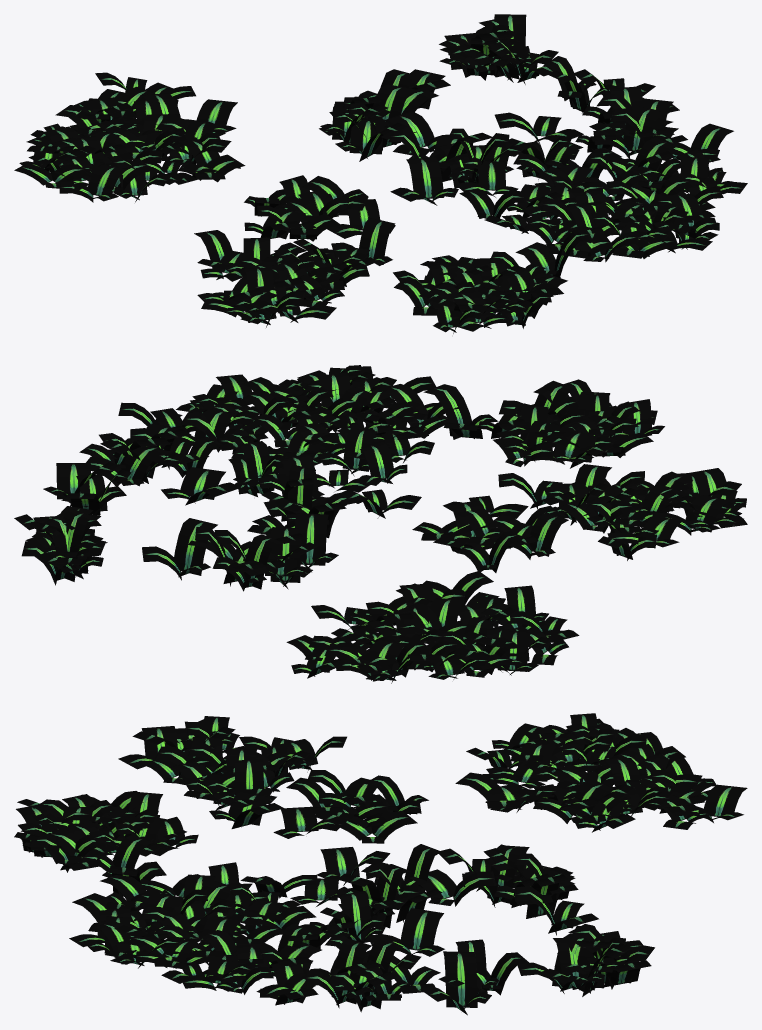
File: grass.glb
3 renders of one model, top to bottom at view 1: azimuth 30°, elevation 25°; view 2: azimuth 150°, elevation 25°; view 3: azimuth 270°, elevation 25°, orthographic. The views are drawn at different scales.
Visible parts, largest first — view 1: Plane677, Plane680, Plane599, Plane569, Plane556, Plane707, Plane299, Plane131, Plane155, Plane317, Plane530, Plane682 (+11 smaller); view 2: Plane557, Plane674, Plane683, Plane545, Plane665, Plane715, Plane584, Plane563, Plane296, Plane667, Plane488, Plane629 (+23 smaller); view 3: Plane668, Plane716, Plane659, Plane614, Plane551, Plane676, Plane698, Plane578, Plane035, Plane617, Plane587, Plane205 (+30 smaller).
Part boxes in pixels (box(x1,y1,x2,y2)): Plane677: box(406, 157, 443, 199); Plane680: box(359, 217, 395, 264); Plane599: box(623, 105, 663, 151); Plane569: box(373, 84, 415, 121); Plane556: box(349, 118, 385, 154); Plane707: box(386, 111, 434, 147); Plane299: box(477, 160, 505, 190); Plane131: box(88, 164, 126, 196); Plane155: box(196, 99, 237, 126); Plane317: box(690, 123, 733, 161); Plane530: box(194, 230, 232, 268); Plane682: box(515, 242, 555, 270); Plane557: box(295, 513, 328, 565); Plane674: box(174, 518, 217, 575); Plane683: box(423, 384, 471, 439); Plane545: box(529, 512, 568, 556); Plane665: box(238, 441, 274, 493); Plane715: box(180, 467, 225, 499); Plane584: box(287, 464, 315, 523); Plane563: box(270, 527, 301, 582); Plane296: box(342, 428, 376, 471); Plane667: box(56, 463, 90, 499); Plane488: box(360, 441, 393, 478); Plane629: box(55, 508, 94, 581); Plane668: box(443, 951, 477, 1007); Plane716: box(400, 908, 443, 950); Plane659: box(338, 891, 371, 942); Plane614: box(331, 938, 371, 1004); Plane551: box(703, 784, 747, 816); Plane676: box(320, 847, 359, 876); Plane698: box(234, 759, 263, 795); Plane578: box(404, 844, 441, 891); Plane035: box(113, 835, 153, 868); Plane617: box(364, 937, 403, 1009); Plane587: box(374, 864, 410, 928); Plane205: box(281, 806, 318, 832).
Size of the model in its own units: 95.48 by 8.03 by 102.
1 material, 1 textured.
